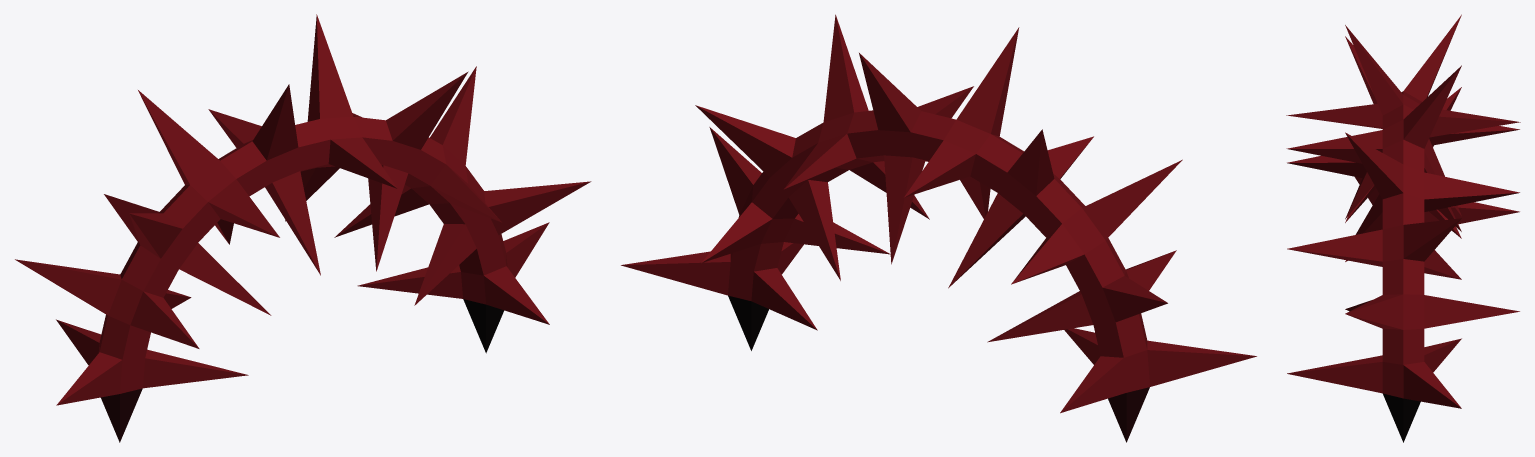
File: Dandelion_Ronce_Clair.FBX
The picture shows the model from 3 angles, left to right: view 1: azimuth 30°, elevation 25°; view 2: azimuth 150°, elevation 25°; view 3: azimuth 270°, elevation 25°; orthographic projection. The views are drawn at different scales.
Visible parts, largest first — view 1: Cylinder045; view 2: Cylinder045; view 3: Cylinder045.
Boxes of the visible parts, left/top/right/bottom form: Cylinder045: left=15, top=14, right=591, bottom=442; Cylinder045: left=621, top=14, right=1256, bottom=442; Cylinder045: left=1286, top=14, right=1520, bottom=442.
Size of the model in its own units: 485 by 290 by 195.
